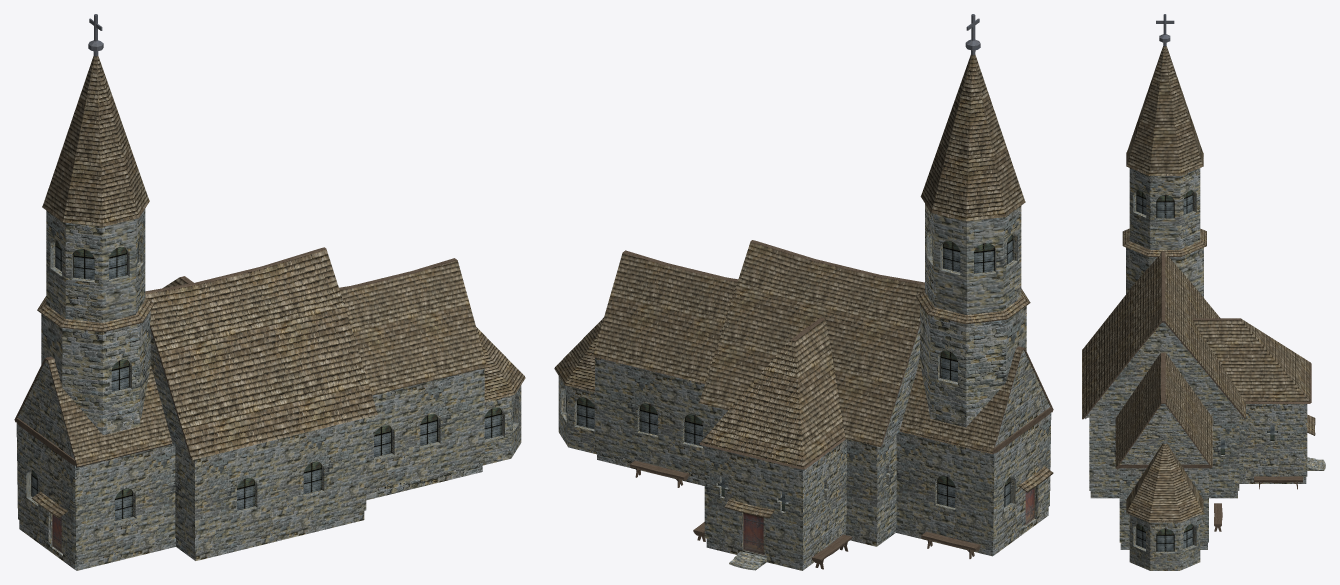
File: f1_church_1_lod1.dae
3 views of the same model, side by side, from view 1: azimuth 30°, elevation 25°; view 2: azimuth 150°, elevation 25°; view 3: azimuth 270°, elevation 25° (orthographic). The views are drawn at different scales.
Visible parts, largest first — view 1: Default_Layer; view 2: Default_Layer; view 3: Default_Layer.
Part boxes in pixels (box(x1,y1,x2,y2)): Default_Layer: box(14, 14, 525, 570); Default_Layer: box(554, 14, 1053, 570); Default_Layer: box(1082, 14, 1325, 570).
Size of the model in its own units: 19.71 by 20.57 by 11.32.
